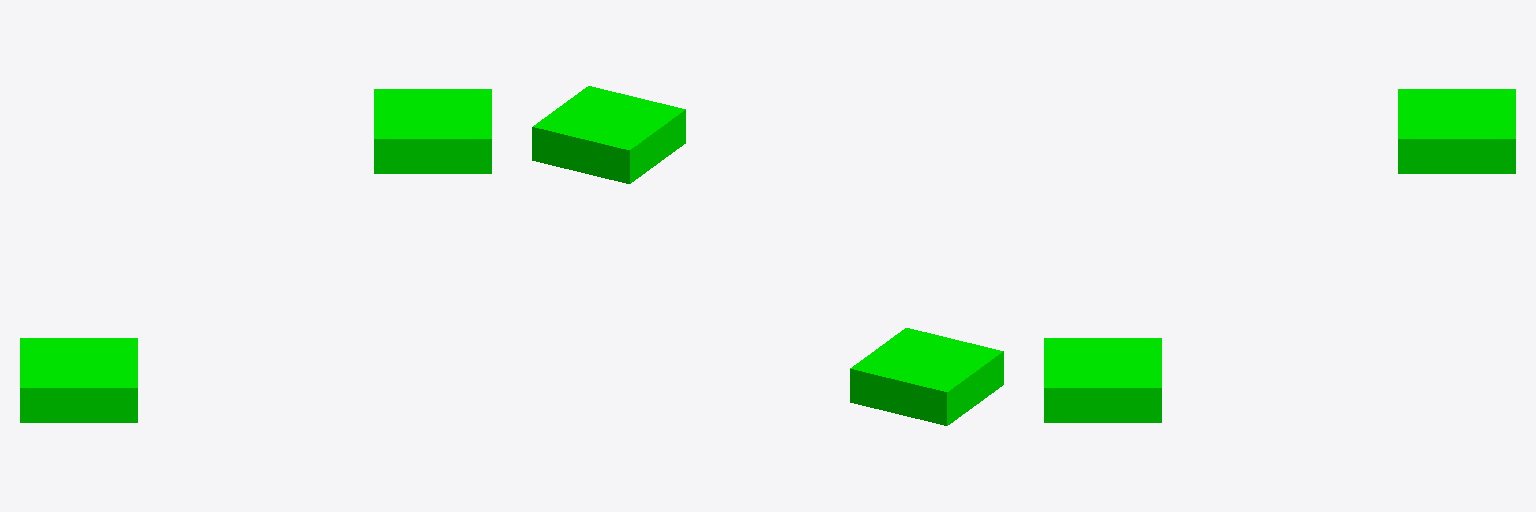
robot.urdf — gridmap_goals:
<?xml version="1.0" ?>
<robot name="gridmap_goals">
  <link name="goal1">
    <inertial>
        <origin xyz="0 0 0" rpy="0 0 0"/>
            <mass value="1"/>
            <inertia ixx="100"  ixy="0"  ixz="0" iyy="100" iyz="0" izz="100" />
    </inertial>
    <visual>
      <origin rpy="0 0 0" xyz="-22 -58 0"/>
      <geometry>
        <box size="3 3 1" />
      </geometry>
       <material name="green">
        <color rgba="0 1 0 1"/>
      </material>
    </visual>
    <collision>
      <origin rpy="0 0 0" xyz="-22 -58 0"/>
      <geometry>
         <box size="3 3 1" />
      </geometry>
    </collision>
  </link>

  <link name="goal2">
    <inertial>
        <origin xyz="0 0 0" rpy="0 0 0"/>
            <mass value="1"/>
            <inertia ixx="100"  ixy="0"  ixz="0" iyy="100" iyz="0" izz="100" />
    </inertial>
    <visual>
      <origin rpy="0 0 0" xyz="0 0 0"/>
      <geometry>
        <box size="3 3 1" />
      </geometry>
       <material name="green">
        <color rgba="0 1 0 1"/>
      </material>
    </visual>
    <collision>
      <origin rpy="0 0 0" xyz="0 0 0"/>
      <geometry>
         <box size="3 3 1" />
      </geometry>
    </collision>
  </link>

  <joint name="goal12" type="fixed">
      <parent link="goal1"/>
      <child link="goal2"/>
      <origin xyz="-37 -49 0"/>
  </joint>

</robot>

--- Facts derived from the render (not from the file) ---
The picture shows the robot from 3 angles, left to right: view 1: azimuth 90°, elevation 25°; view 2: azimuth 150°, elevation 25°; view 3: azimuth 270°, elevation 25°; orthographic projection.
Model gridmap_goals with 2 links and 1 joints (1 fixed), rooted at goal1, posed all joints at 0.
Links seen in each view (by area): view 1: goal1, goal2; view 2: goal1, goal2; view 3: goal1, goal2.
Boxes of the visible links, x1,y1,x2,y2 form: goal1: (374,89,491,173); goal2: (20,338,137,422); goal1: (532,86,685,183); goal2: (850,328,1003,425); goal1: (1044,338,1161,422); goal2: (1398,89,1515,173).
Size in the robot's own frame: 18 by 12 by 1 metres.
Geometry: primitives only (box / cylinder / sphere), no mesh files.